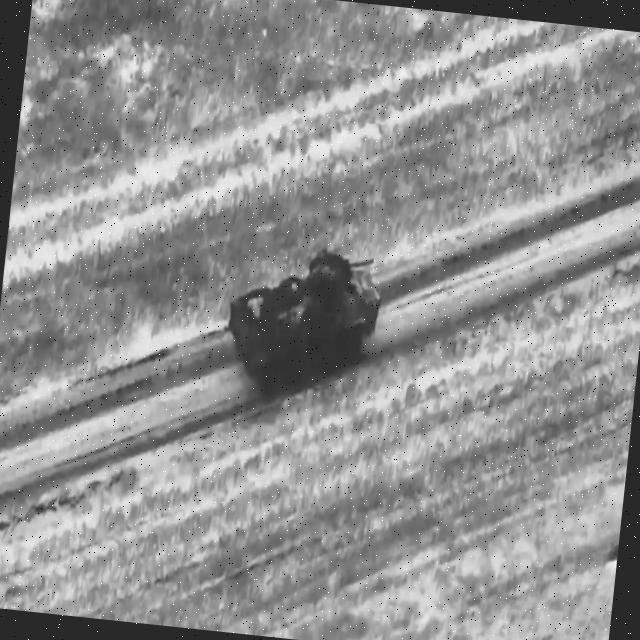APC: (219, 239, 393, 407)
